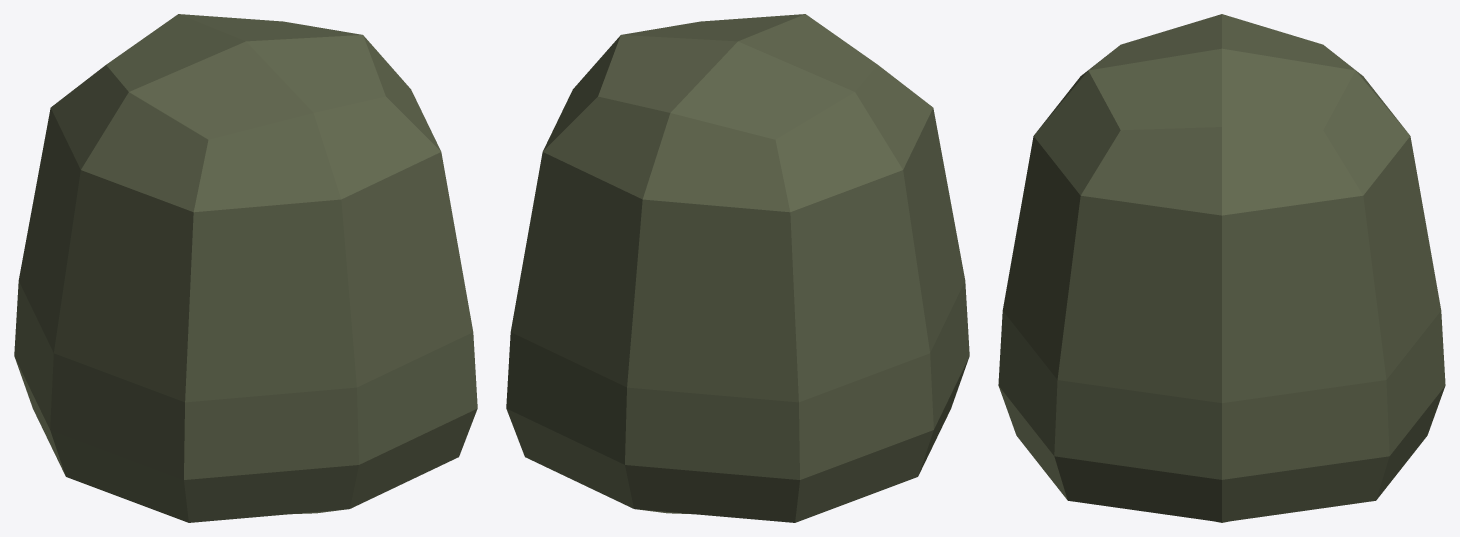
Rendered from Lettuce_Crop.gltf.
The picture shows the model from 3 angles, left to right: view 1: azimuth 30°, elevation 25°; view 2: azimuth 150°, elevation 25°; view 3: azimuth 270°, elevation 25°; orthographic projection.
Visible parts, largest first — view 1: Lettuce_Crop; view 2: Lettuce_Crop; view 3: Lettuce_Crop.
Boxes of the visible parts, bbox=[...] form: Lettuce_Crop: bbox=[14, 14, 477, 522]; Lettuce_Crop: bbox=[506, 14, 969, 522]; Lettuce_Crop: bbox=[998, 14, 1445, 522].
Bounding box in the file's own units: 0.4043 × 0.4238 × 0.4043.
